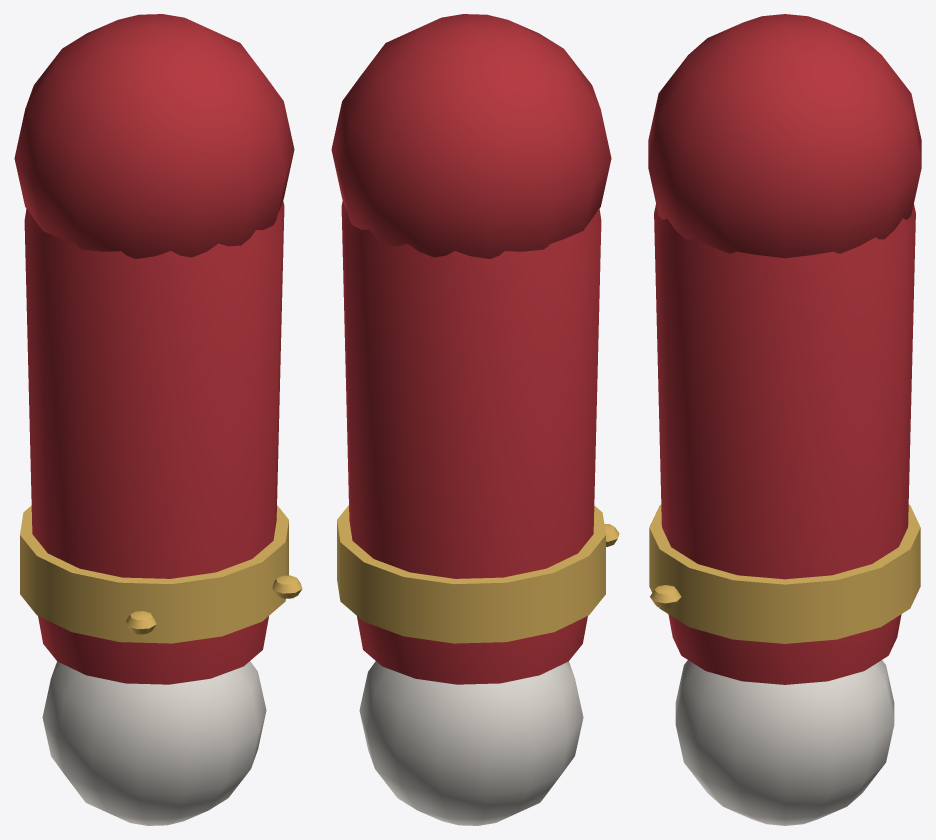
The model's file is Tin_Arm.fbx.
3 renders of one model, left to right at view 1: azimuth 30°, elevation 25°; view 2: azimuth 150°, elevation 25°; view 3: azimuth 270°, elevation 25°, orthographic.
Visible parts, largest first — view 1: Tin_Arm; view 2: Tin_Arm; view 3: Tin_Arm.
Part boxes in pixels (x1,y1,x2,y2): Tin_Arm: (14,14,302,825); Tin_Arm: (331,14,619,825); Tin_Arm: (648,14,921,825).
Size of the model in its own units: 0.06 by 0.186 by 0.0585.
